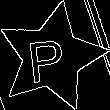P_N: (30, 30, 73, 84)
